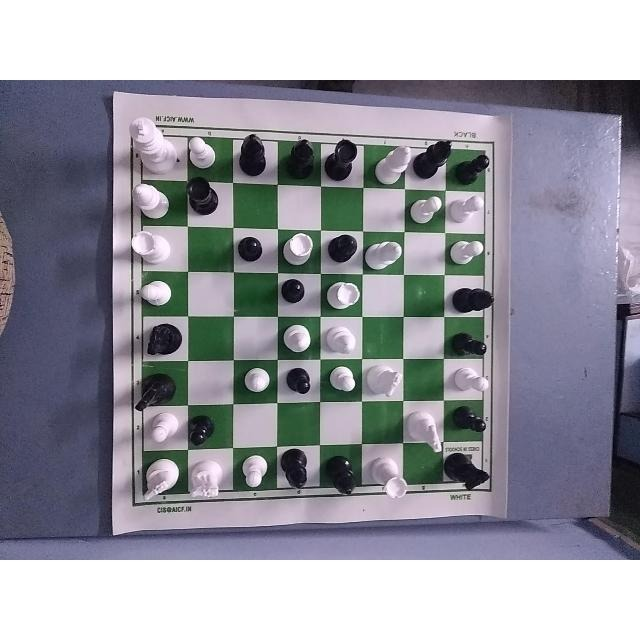black-bishop: (412, 131, 457, 187), (276, 132, 315, 186), (232, 129, 272, 181), (279, 442, 313, 499), (326, 451, 362, 499), (448, 282, 497, 314), (325, 229, 360, 271)
black-knight: (442, 444, 494, 490), (141, 318, 188, 360), (129, 372, 173, 416)
black-pawn: (452, 146, 495, 184), (234, 228, 270, 270), (448, 405, 492, 439), (277, 273, 313, 310), (277, 369, 317, 401), (449, 330, 491, 359), (186, 410, 216, 447)
black-rook: (184, 174, 228, 223), (323, 137, 364, 177)
white-bishop: (127, 175, 169, 219), (372, 139, 414, 183), (364, 232, 404, 274), (278, 318, 317, 358), (322, 324, 358, 358)
white-king: (129, 111, 181, 185)
white-knight: (139, 453, 181, 502), (408, 405, 448, 455), (187, 457, 223, 505), (367, 362, 405, 406)
white-pawn: (183, 135, 223, 175), (407, 190, 443, 230), (448, 194, 487, 228), (451, 365, 491, 398), (146, 411, 179, 451), (238, 368, 273, 404), (139, 277, 179, 308), (242, 451, 270, 495), (449, 236, 485, 268), (330, 362, 359, 401)
white-rook: (361, 455, 417, 502), (279, 229, 321, 271), (326, 277, 363, 317), (130, 230, 170, 264)
